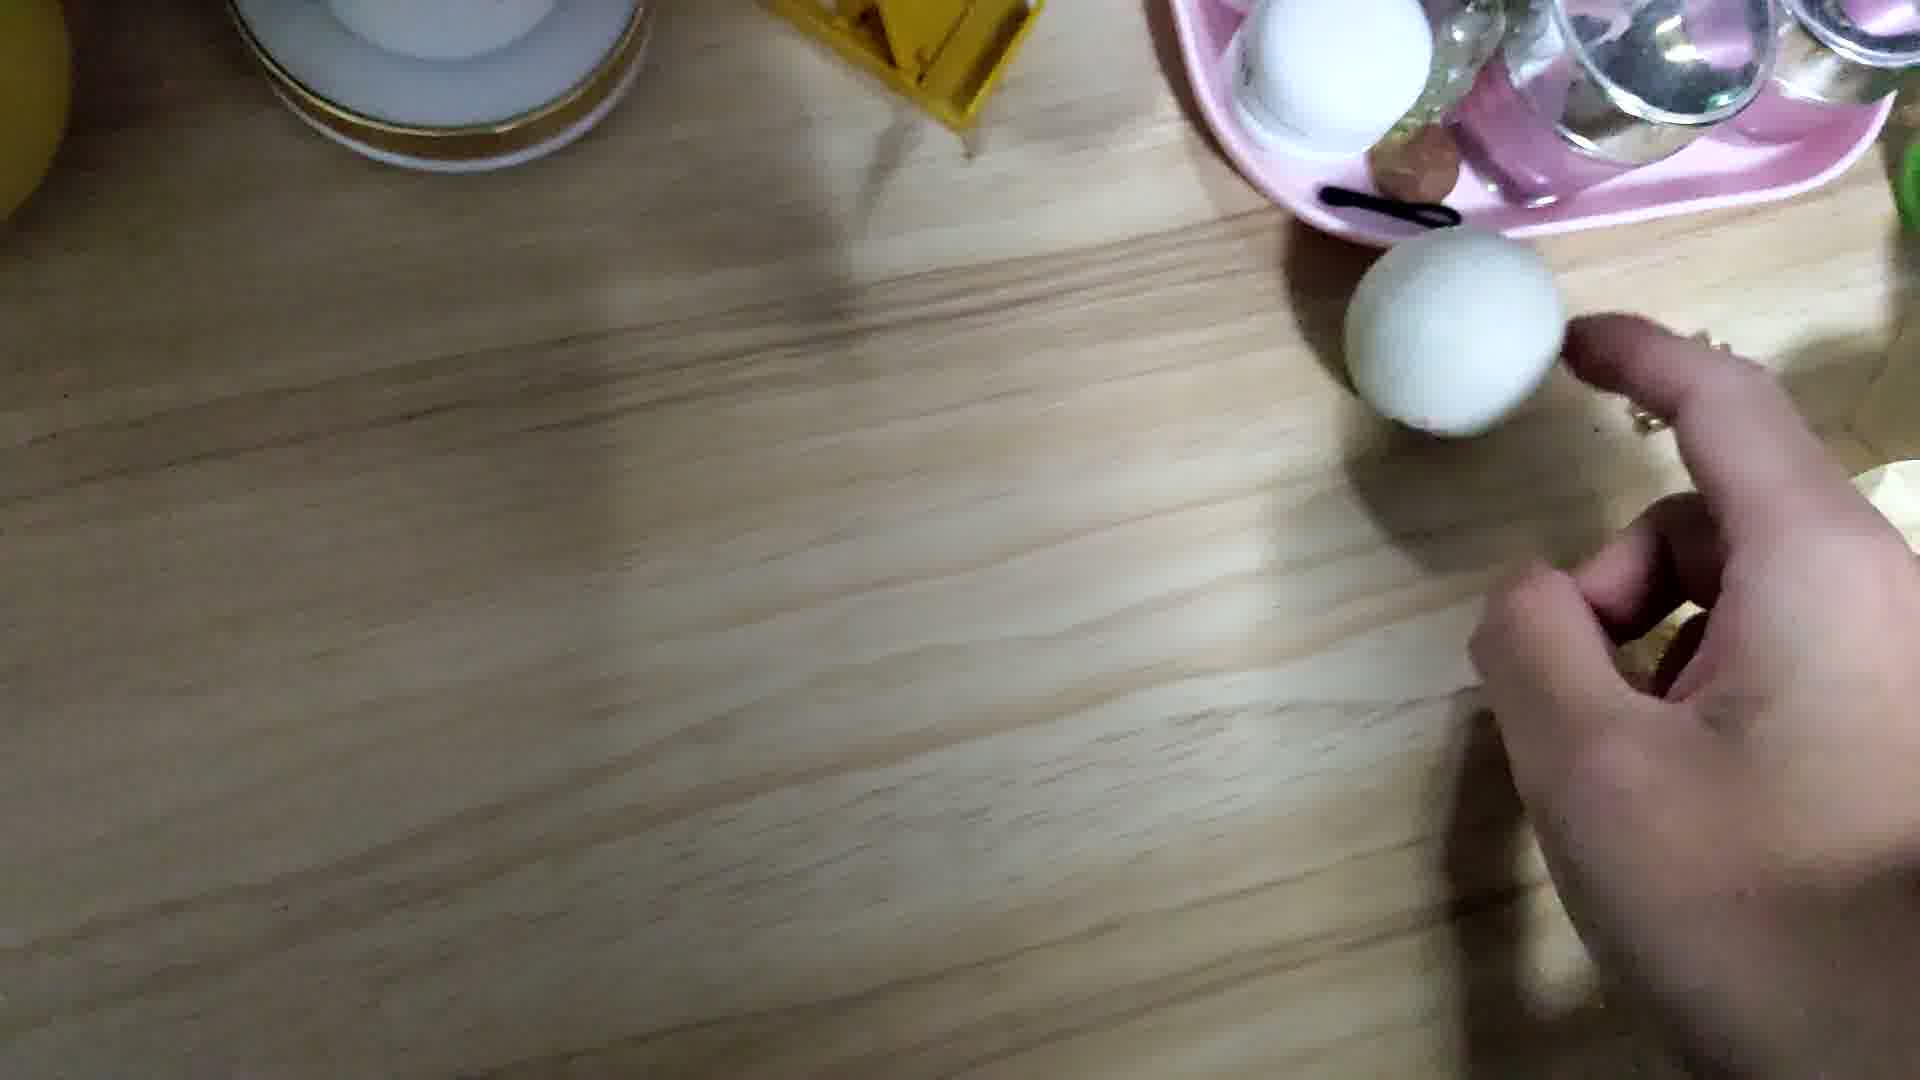Ball: (1338, 229, 1563, 436)
